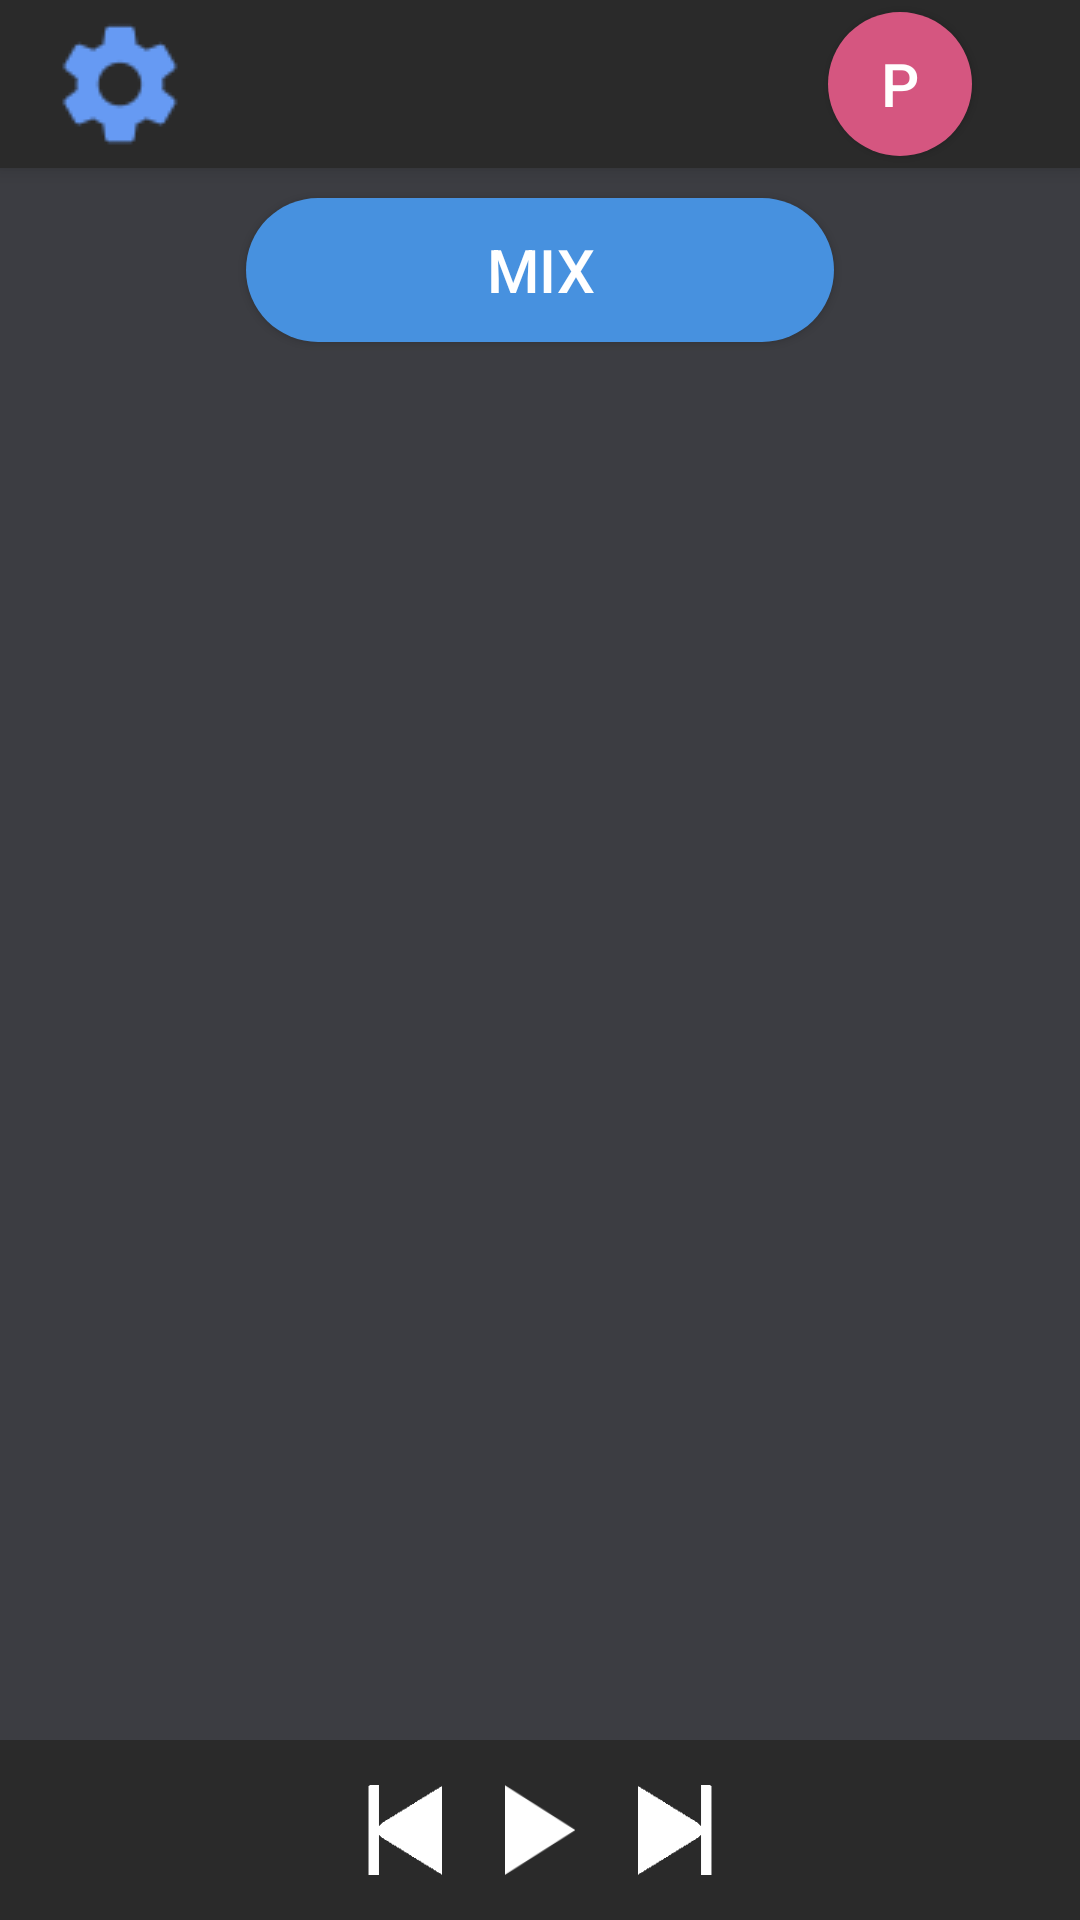

Locate icon controls on the screen. Image size 1080x1920, boxes as (x1, y1, x2, y2).
back: (368, 1785, 442, 1875)
next: (638, 1785, 712, 1875)
play arrow: (505, 1785, 575, 1875)
settings: (62, 25, 177, 144)
